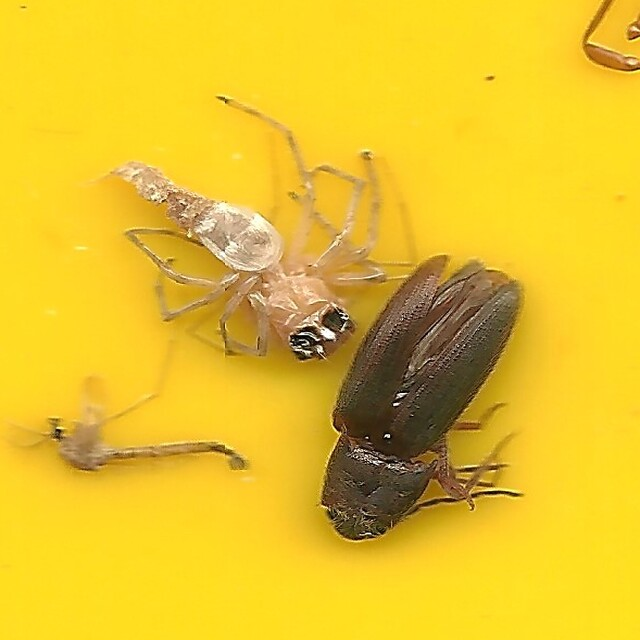Araneae: (109, 92, 417, 365)
Coleoptera: (314, 258, 531, 548)
